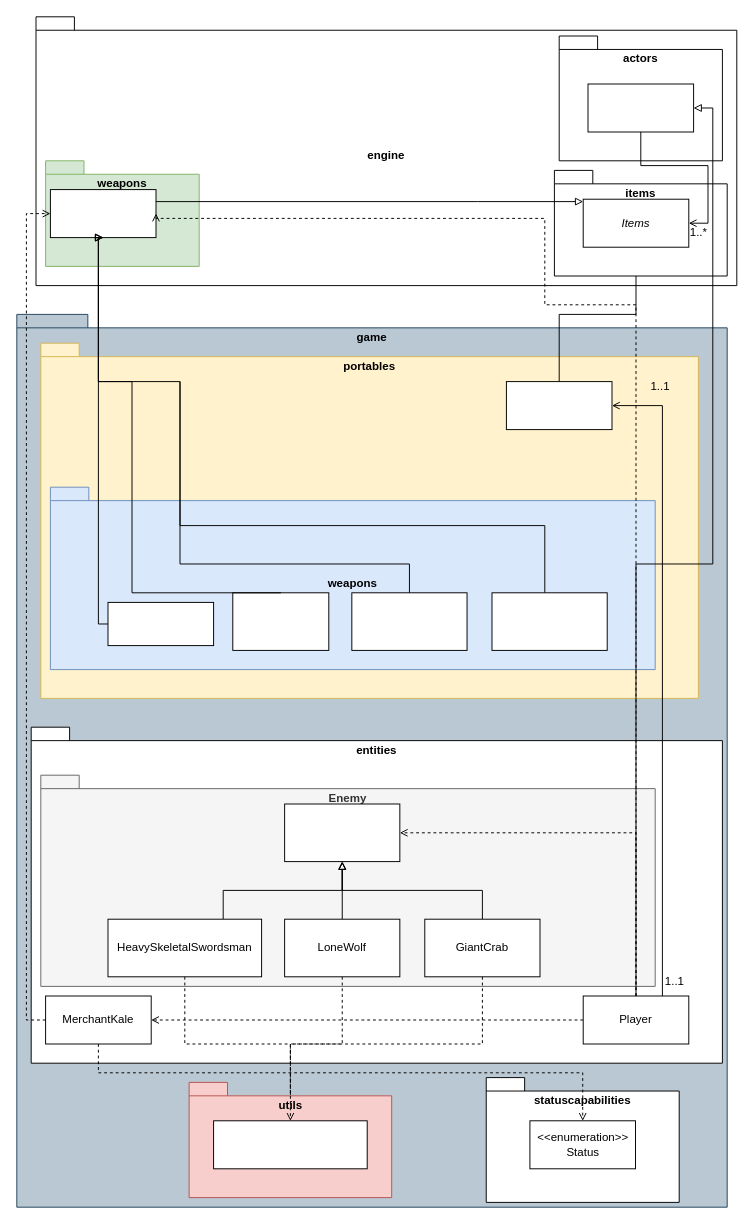
Image size: 754x1224. Some labels were removed from this diagram. Here are the shapes that lost their labels. From the top down, the centre of each, then its label:
At point 640,107: "Actor".
At point 102,213: "WeaponItem".
At point 558,405: "Runes".
At point 160,623: "Grossmesser".
At point 280,621: "Club".
At point 409,621: "Uchigatana".
At point 549,621: "GreatKnife".
At point 342,832: "<<interface>> Enemy".
At point 290,1144: "RandomNumberGenerator".
